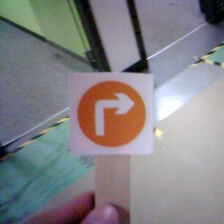right: (66, 71, 156, 151)
